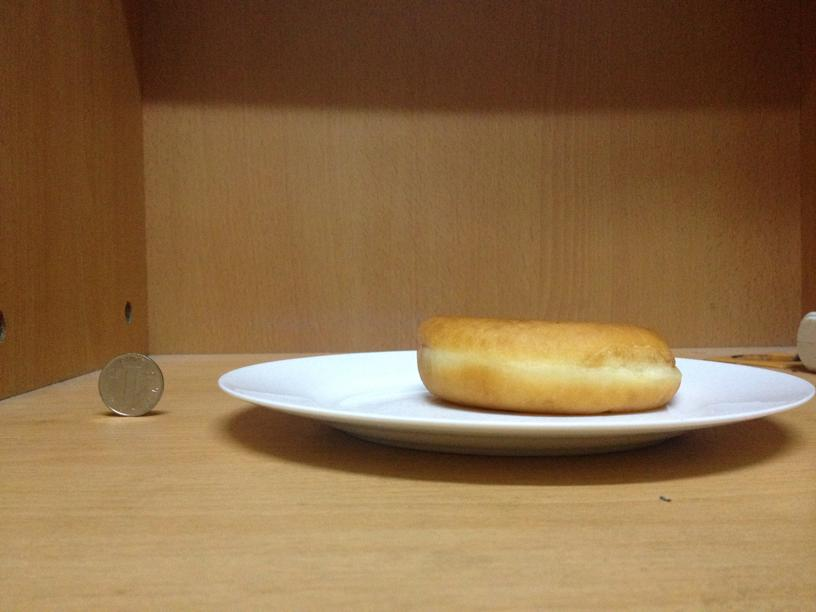coin: (94, 352, 165, 416)
doughnut: (409, 311, 679, 410)
